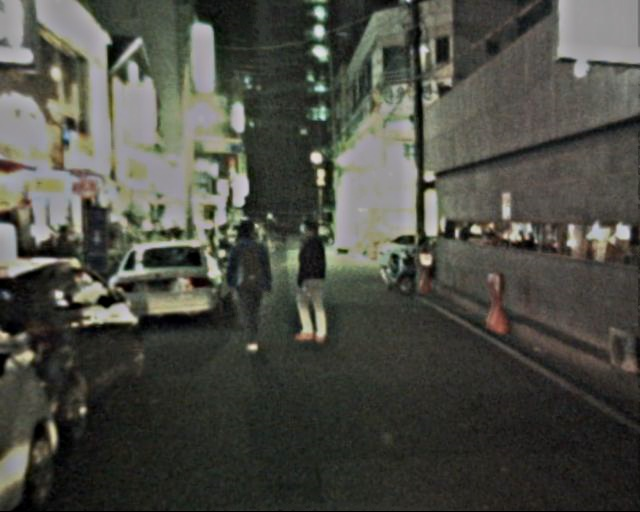person: (222, 221, 276, 353), (286, 220, 341, 343)
